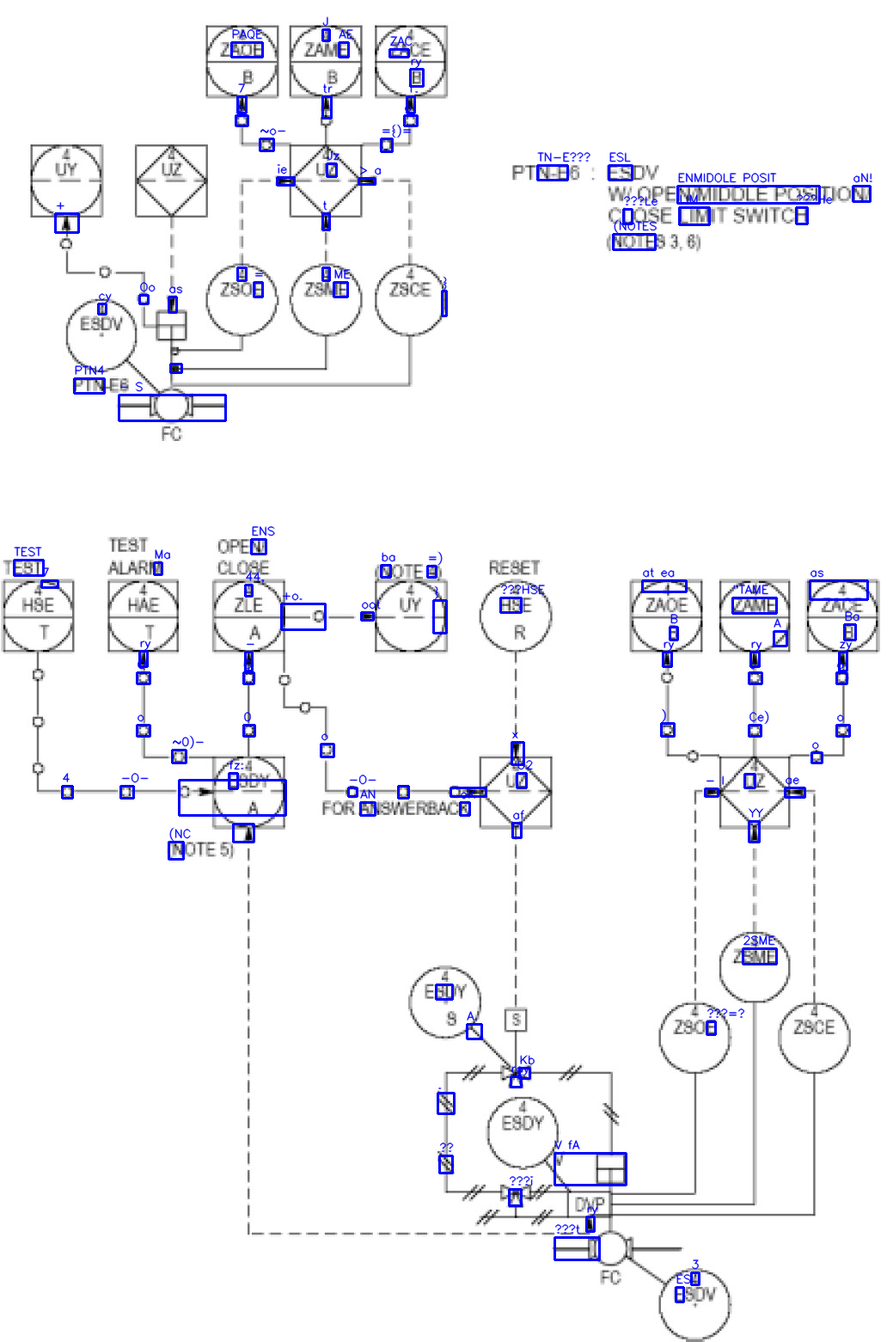Outro: (211, 756, 289, 832), (776, 998, 851, 1076), (654, 1001, 731, 1076), (105, 578, 181, 653), (4, 579, 79, 654), (29, 144, 104, 218), (478, 755, 552, 830), (374, 578, 448, 652), (717, 756, 792, 829), (291, 24, 362, 101), (629, 578, 703, 651), (478, 580, 552, 653), (291, 144, 363, 218), (374, 263, 446, 337), (806, 578, 878, 651), (718, 929, 790, 1002), (137, 146, 209, 218), (205, 25, 278, 96), (206, 262, 275, 337), (377, 25, 447, 98), (720, 580, 790, 653), (216, 580, 284, 653), (291, 267, 360, 337)
Válvula: (655, 1266, 739, 1341), (59, 297, 140, 374), (498, 1000, 534, 1087), (578, 1228, 641, 1270), (144, 384, 204, 424), (494, 1180, 535, 1214)
